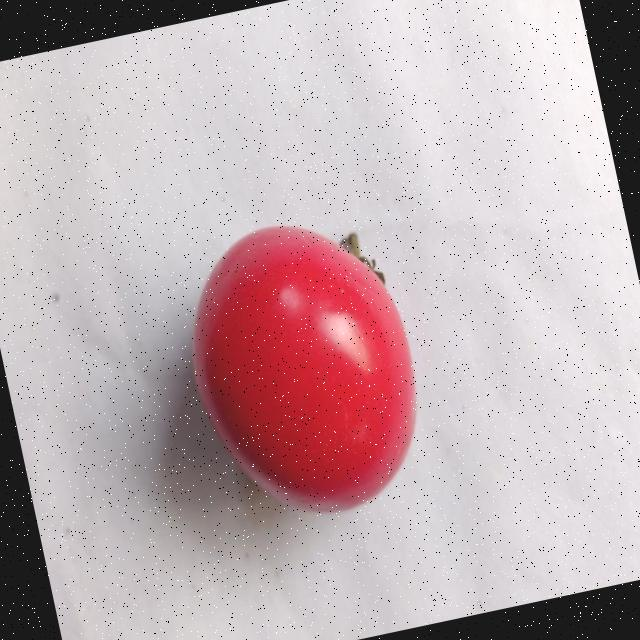Ripe: (156, 188, 446, 539)
